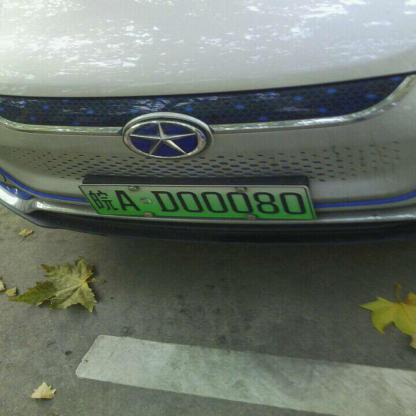lp: (79, 185, 314, 218)
